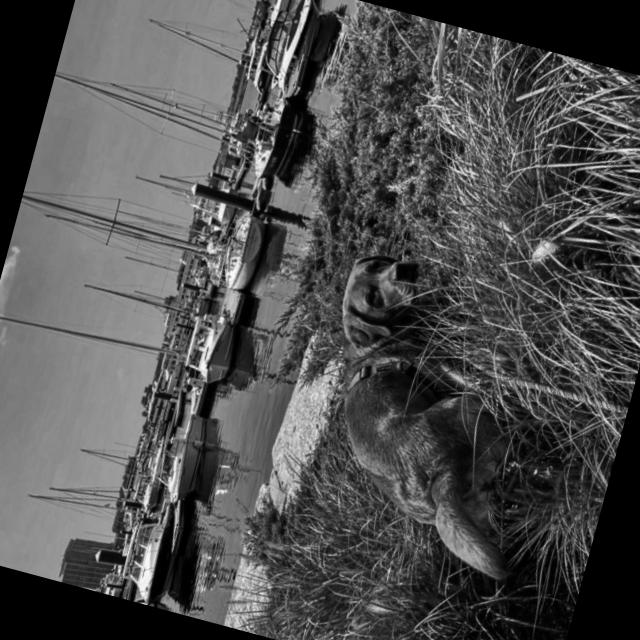squatting: (270, 240, 584, 594)
